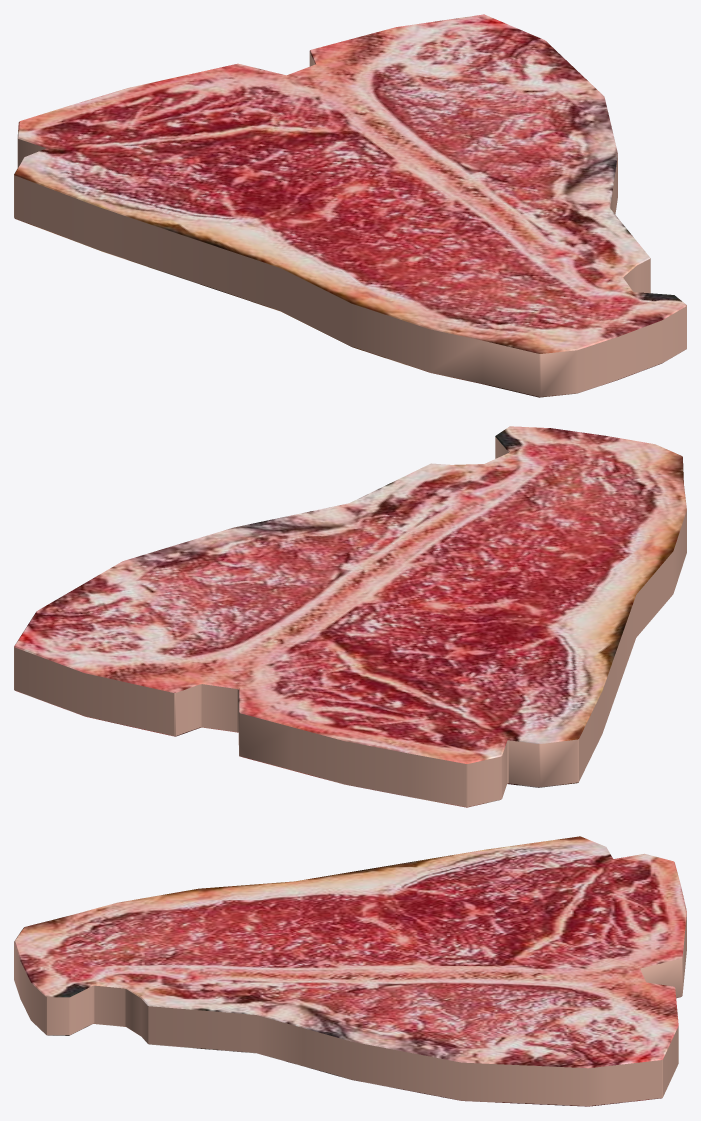
The model's file is Meat.fbx.
3 views of the same model, one above another, from view 1: azimuth 30°, elevation 25°; view 2: azimuth 150°, elevation 25°; view 3: azimuth 270°, elevation 25° (orthographic). The views are drawn at different scales.
Visible parts, largest first — view 1: Meat; view 2: Meat; view 3: Meat.
Part boxes in pixels (bbox=[...]): Meat: bbox=[14, 14, 686, 397]; Meat: bbox=[14, 426, 686, 807]; Meat: bbox=[14, 836, 686, 1106].
Size of the model in its own units: 245 by 19.59 by 301.
1 material, 1 textured.
